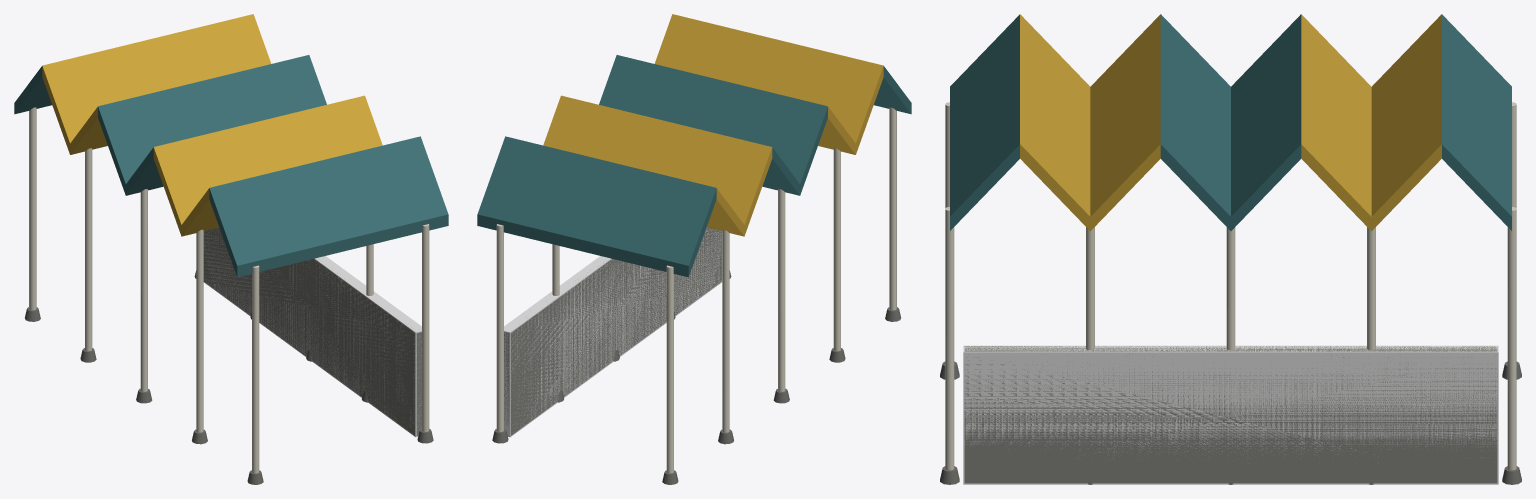
Rendered from stop-15.glb.
The picture shows the model from 3 angles, left to right: view 1: azimuth 30°, elevation 25°; view 2: azimuth 150°, elevation 25°; view 3: azimuth 270°, elevation 25°; orthographic projection. The views are drawn at different scales.
Visible parts, largest first — view 1: 00_paint0, 01_paint6, 04_#85857f, 02_#d8d4c4, solid, 03_#6e6e6a; view 2: 00_paint0, 01_paint6, 04_#85857f, solid, 02_#d8d4c4, 03_#6e6e6a; view 3: solid, 04_#85857f, 01_paint6, 00_paint0, 02_#d8d4c4, 03_#6e6e6a.
Boxes of the visible parts, x1,y1,x2,y2 form: 00_paint0: (14, 55, 448, 277); 01_paint6: (42, 14, 382, 236); 04_#85857f: (204, 227, 421, 435); 02_#d8d4c4: (29, 107, 429, 473); solid: (203, 228, 421, 437); 03_#6e6e6a: (25, 270, 433, 484); 00_paint0: (477, 55, 911, 277); 01_paint6: (543, 14, 883, 236); 04_#85857f: (504, 227, 721, 435); solid: (504, 228, 722, 437); 02_#d8d4c4: (496, 107, 896, 473); 03_#6e6e6a: (492, 270, 900, 484); solid: (963, 345, 1498, 484); 04_#85857f: (964, 346, 1497, 483); 01_paint6: (1020, 14, 1441, 231); 00_paint0: (950, 14, 1511, 230); 02_#d8d4c4: (945, 102, 1516, 470); 03_#6e6e6a: (940, 361, 1521, 484).
Size of the model in its own units: 2.3 by 2.89 by 4.35.
